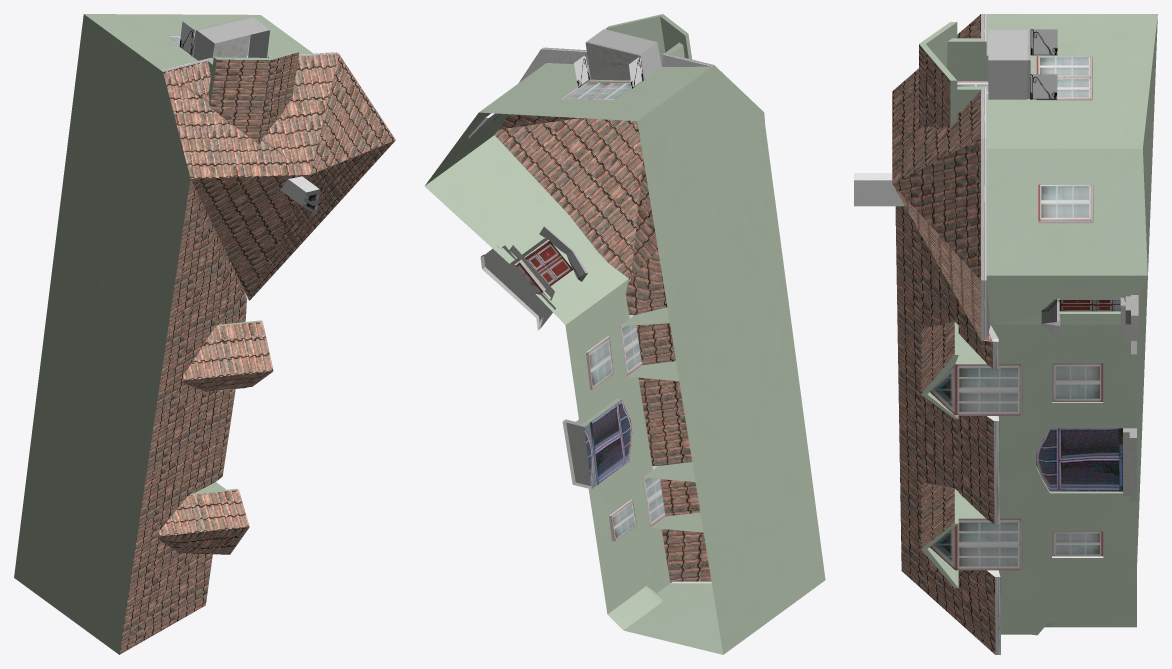
File: Toom-Ryytli_10_2-origo.obj
3 views of the same model, side by side, from view 1: azimuth 30°, elevation 25°; view 2: azimuth 150°, elevation 25°; view 3: azimuth 270°, elevation 25° (orthographic). The views are drawn at different scales.
Parts seen in each view (by area): view 1: Toom_Ryytli_10_2; view 2: Toom_Ryytli_10_2; view 3: Toom_Ryytli_10_2.
Boxes of the visible parts, x1,y1,x2,y2 form: Toom_Ryytli_10_2: [14, 14, 395, 654]; Toom_Ryytli_10_2: [424, 14, 825, 654]; Toom_Ryytli_10_2: [854, 14, 1157, 654].
Size of the model in its own units: 13.06 by 22.5 by 9.86.
